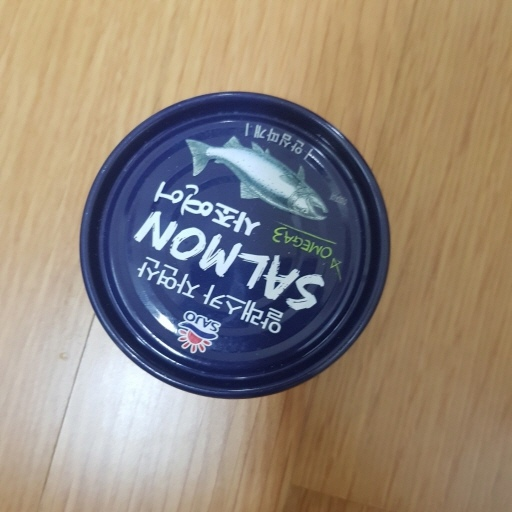Metal_1: (75, 91, 392, 401)
